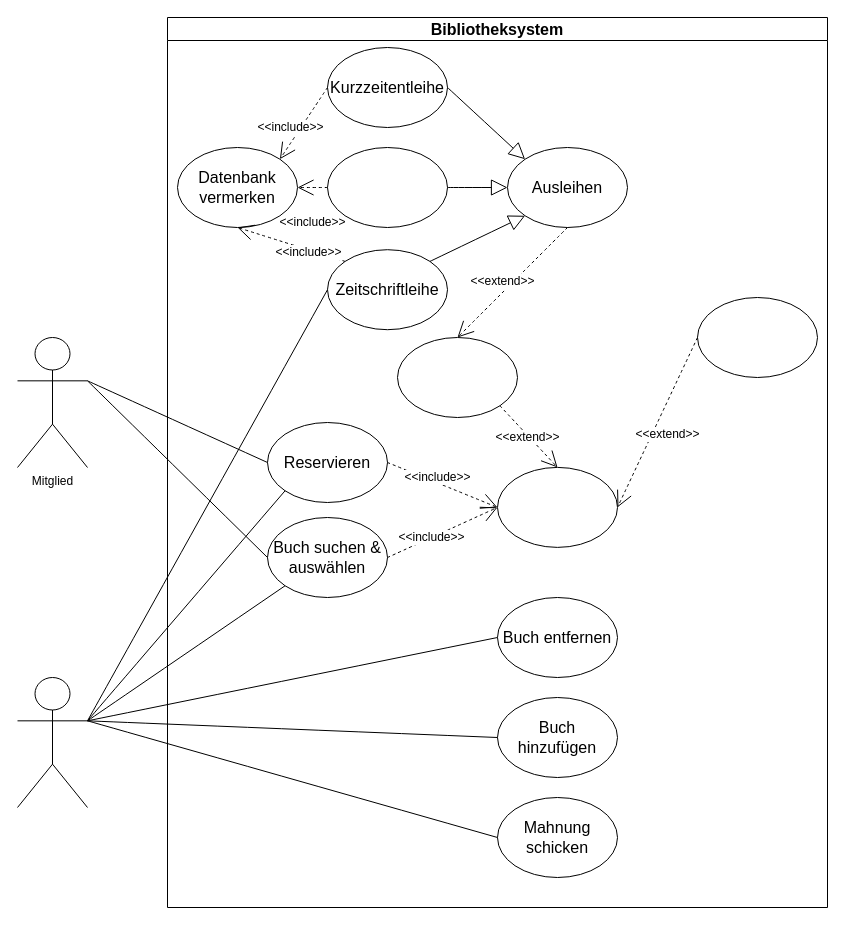
Some shapes in this 845 by 925 pixel diagram are drawn without their labels. Each missing label, with the centre of its shape:
Fehler anzeigen: the point at 757,337
max. Bücheranzahl überprüfen: the point at 457,377
Mitarbeiter: the point at 52,742
Normalleihe (3 Wochen): the point at 387,187
Verfügbarkeit prüfen: the point at 557,506
